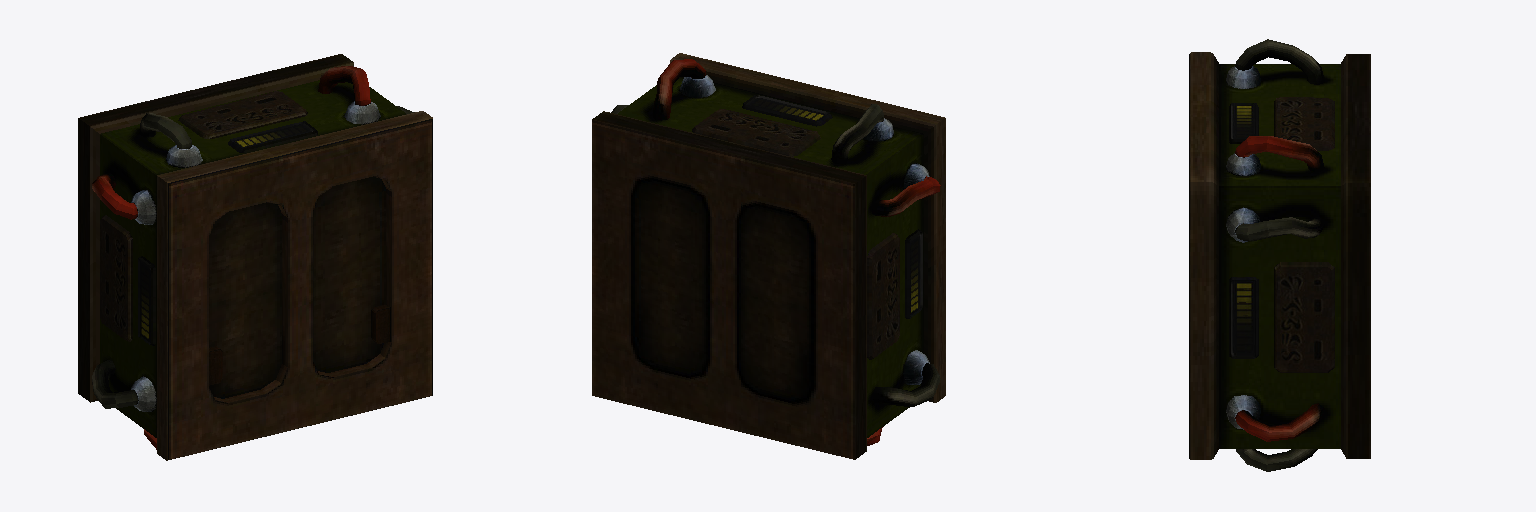
The picture shows the model from 3 angles: view 1: azimuth 30°, elevation 25°; view 2: azimuth 150°, elevation 25°; view 3: azimuth 270°, elevation 25°; orthographic projection.
Size of the model in its own units: 38.06 by 38.06 by 18.68.
1 materials, 1 textured.